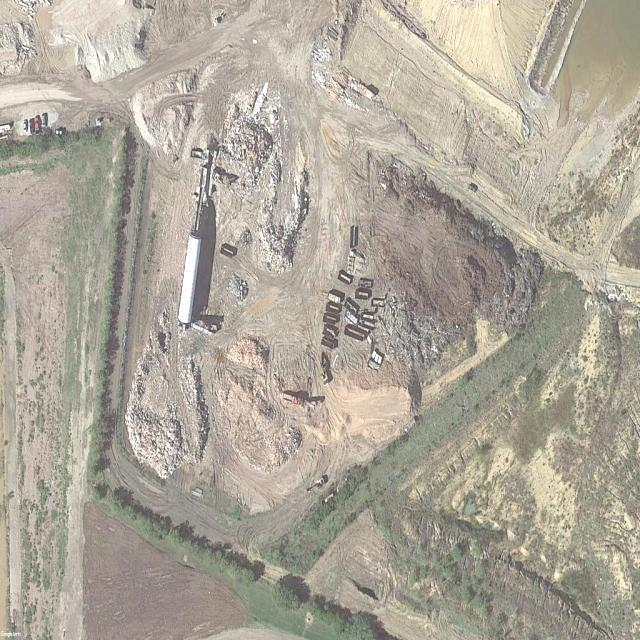dump_site: (213, 72, 288, 199)
